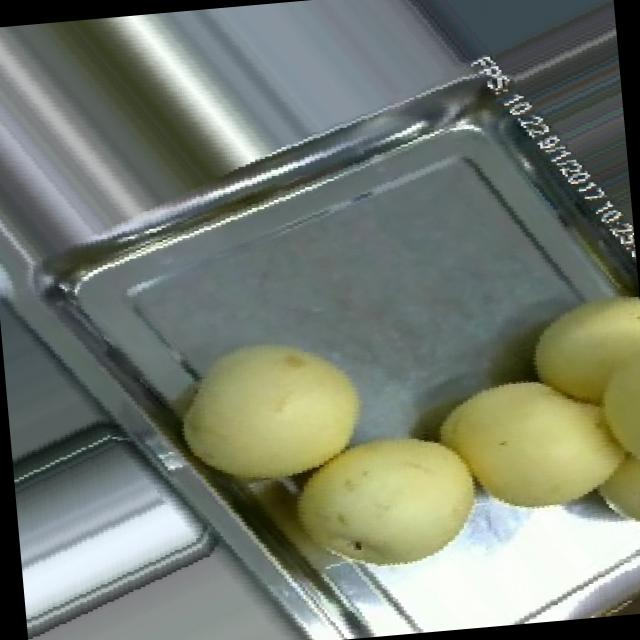Fruit: (405, 332, 640, 564), (146, 308, 392, 522), (264, 398, 510, 610)
